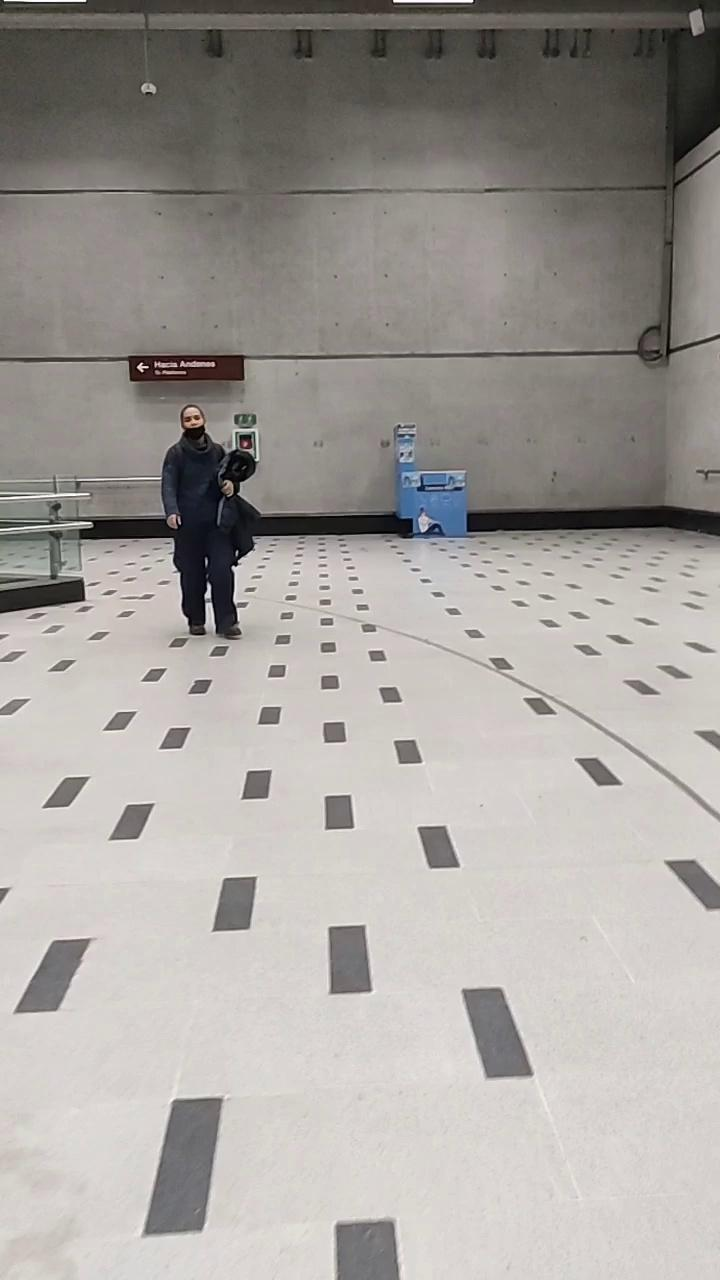left arrow: (136, 360, 149, 374)
